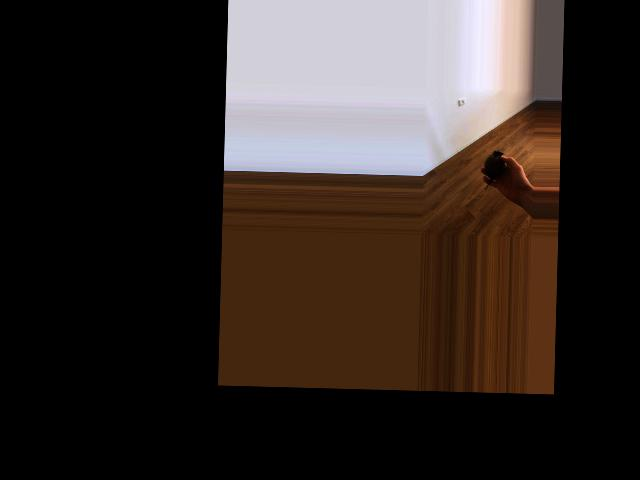beet: (482, 150, 506, 189)
